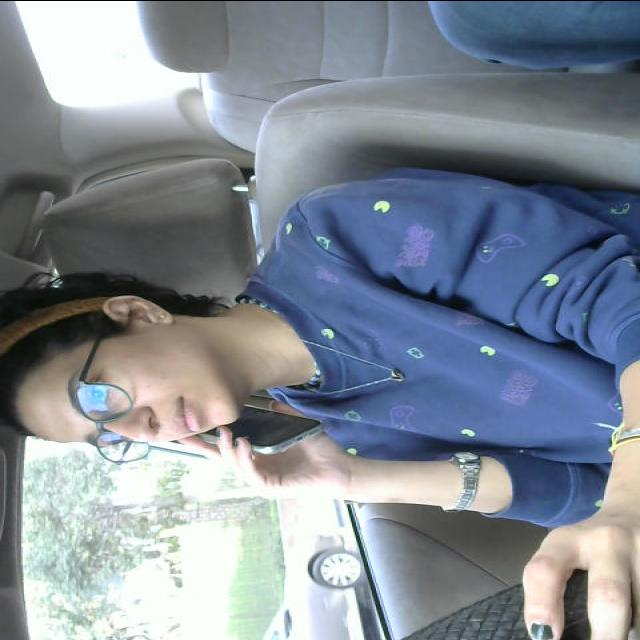mobile use: (189, 398, 335, 466)
